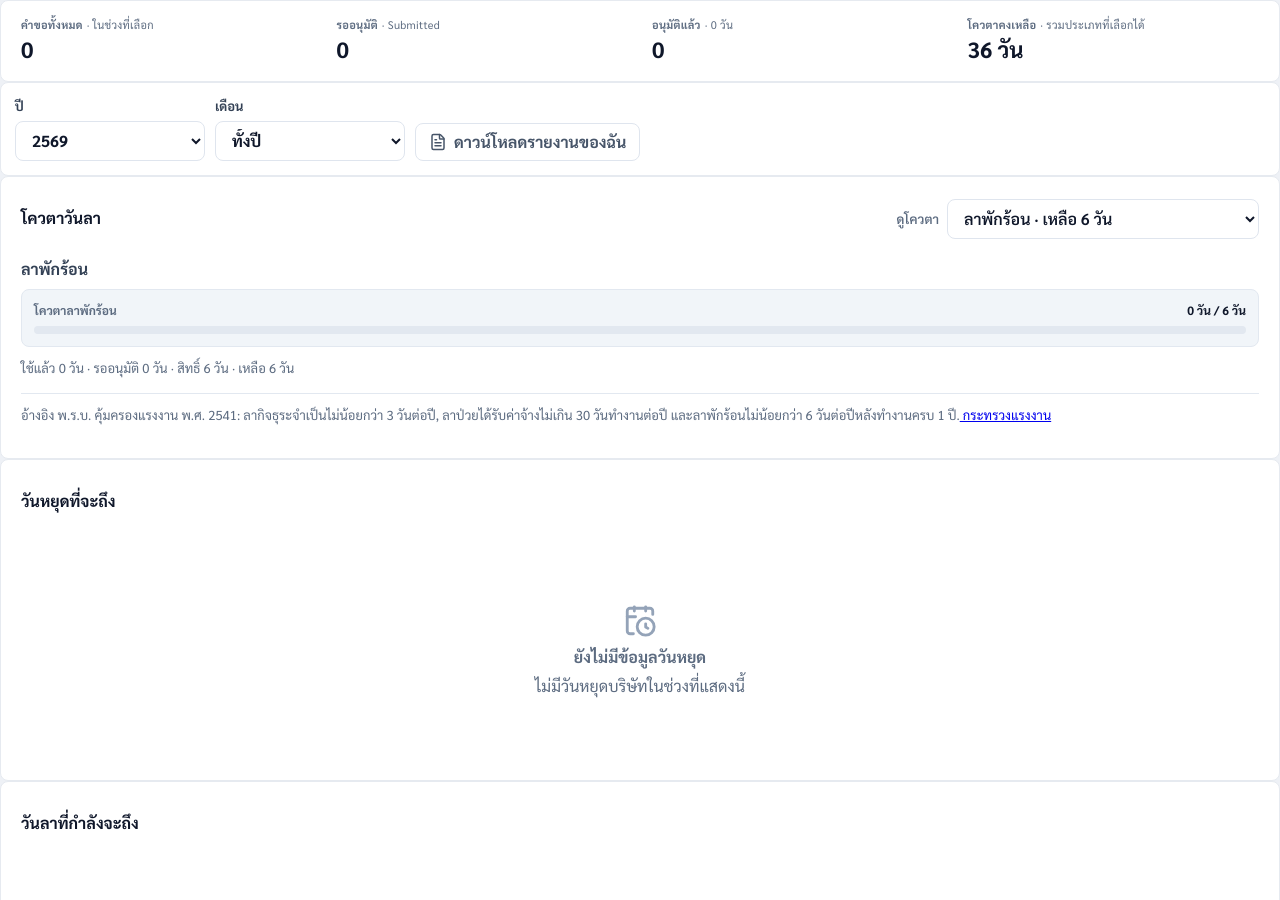
Test: MyLeaveTab balances: one primary card + a single disclosure (owner feedback, 2026-08) › updates the primary balance card to follow the "ประเภทการลา" select
Expected: the element with test id "primary-balance-card" shows "ลาพักร้อน", [21,258,88,279]
Select "ลาป่วย · เหลือ 30 วัน" in the dropdown named "ประเภทการลา": (1103, 219) [947,199,1259,239]
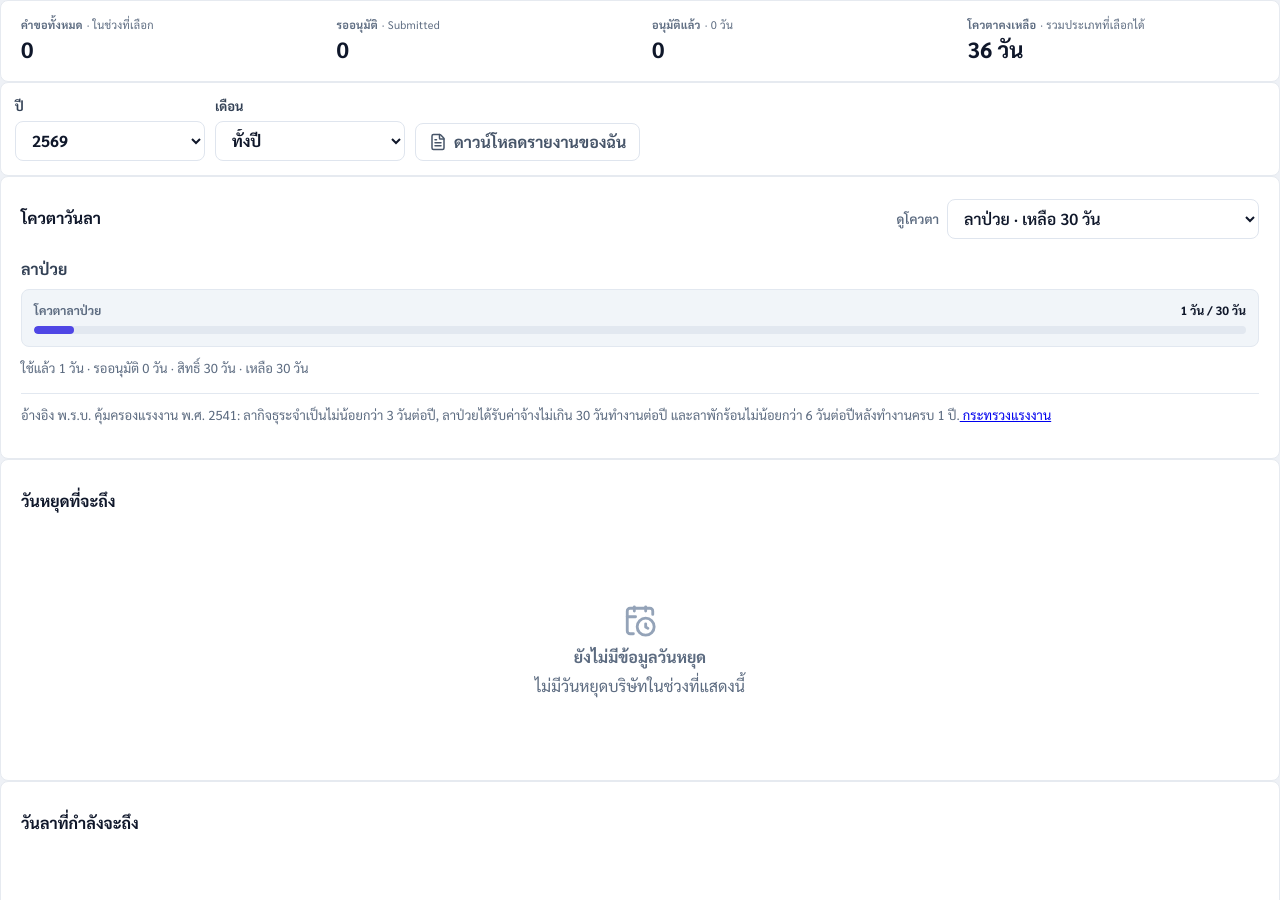
Expected: the element with test id "primary-balance-card" shows "ลาป่วย", [21,258,67,279]
Expected: the element with test id "primary-balance-card" no longer shows "ลาพักร้อน"
